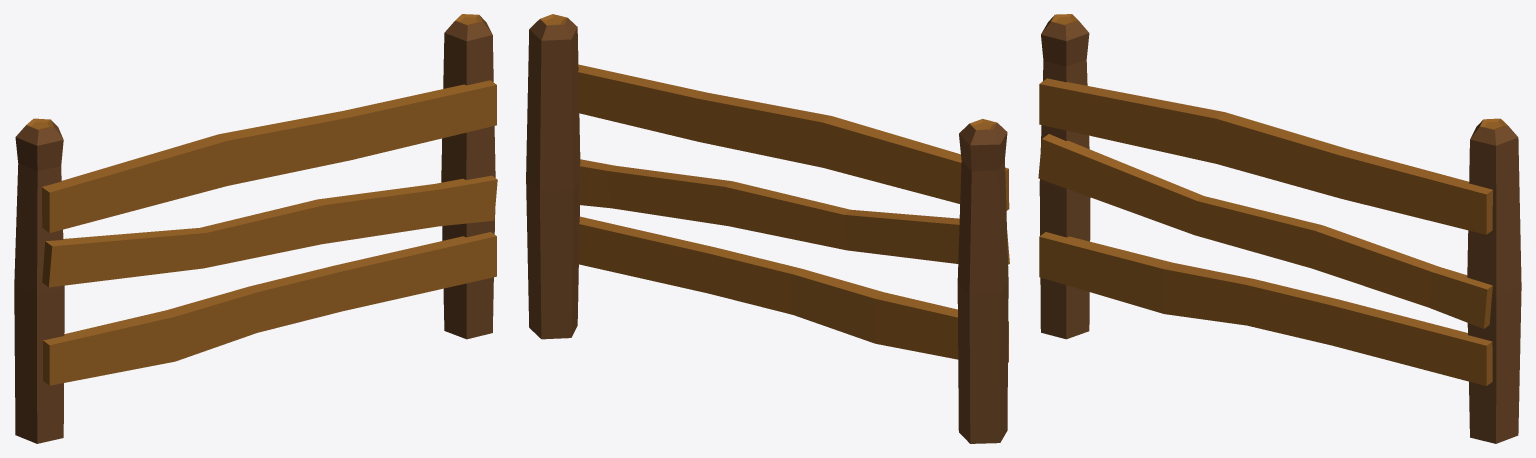
Rendered from Fence1.fbx.
The picture shows the model from 3 angles, left to right: view 1: azimuth 30°, elevation 25°; view 2: azimuth 150°, elevation 25°; view 3: azimuth 330°, elevation 25°; orthographic projection.
Visible parts, largest first — view 1: Cube.002, Cube, Cube.001, Cylinder.001, Cylinder.000; view 2: Cube.002, Cube, Cube.001, Cylinder.000, Cylinder.001; view 3: Cube.002, Cube, Cube.001, Cylinder.000, Cylinder.001.
Part boxes in pixels (x1=…): Cube.002: x1=42, y1=80, x2=496, y2=232; Cube: x1=43, y1=232, x2=496, y2=385; Cube.001: x1=42, y1=175, x2=497, y2=287; Cylinder.001: x1=14, y1=118, x2=64, y2=443; Cylinder.000: x1=441, y1=14, x2=495, y2=339; Cube.002: x1=578, y1=64, x2=1009, y2=210; Cube: x1=578, y1=216, x2=1008, y2=362; Cube.001: x1=579, y1=159, x2=1009, y2=264; Cylinder.000: x1=526, y1=14, x2=580, y2=339; Cylinder.001: x1=957, y1=119, x2=1008, y2=443; Cube.002: x1=1039, y1=78, x2=1492, y2=234; Cube: x1=1039, y1=232, x2=1492, y2=385; Cube.001: x1=1038, y1=134, x2=1492, y2=328; Cylinder.000: x1=1467, y1=118, x2=1521, y2=443; Cylinder.001: x1=1039, y1=14, x2=1090, y2=339.
Size of the model in its own units: 369 by 230 by 43.14.
